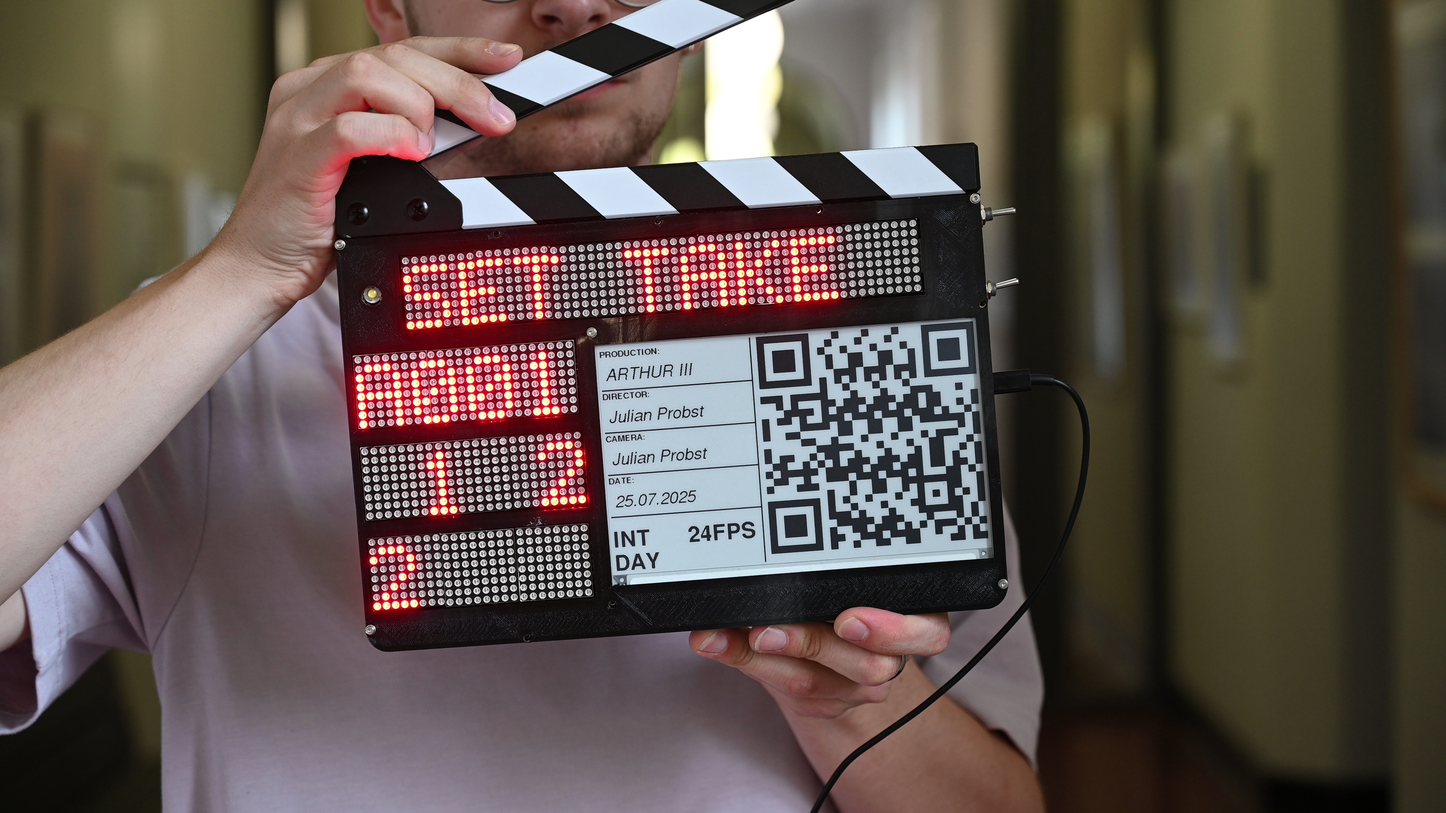ARC-SLATE: (330, 143, 1010, 655)
